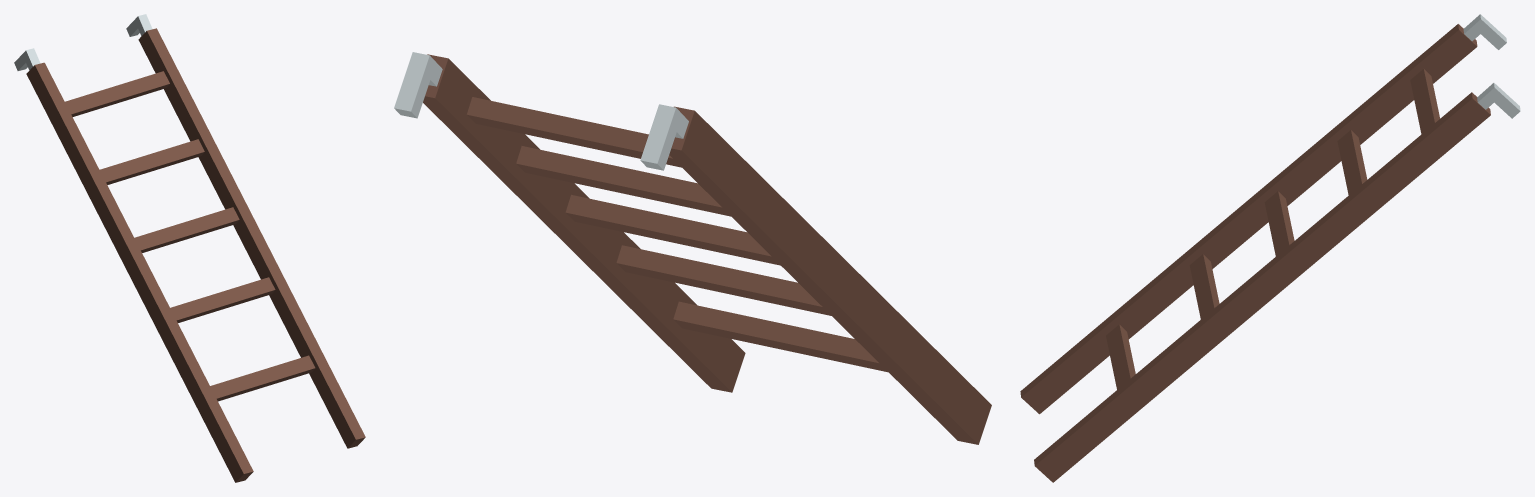
The model's file is Ladder.glb.
3 views of the same model, side by side, from view 1: azimuth 30°, elevation 25°; view 2: azimuth 150°, elevation 25°; view 3: azimuth 270°, elevation 25° (orthographic). The views are drawn at different scales.
Parts seen in each view (by area): view 1: group402200211, group1506858106, group371036787, group1095350313, group956490401, group405798310, group1277764583; view 2: group402200211, group1506858106, group371036787, group1277764583, group1095350313, group405798310, group956490401, group1614764345, group431764845; view 3: group1506858106, group402200211, group956490401, group371036787, group405798310, group1095350313, group1277764583, group431764845, group1614764345.
Boxes of the visible parts, left/top/right/bottom form: group402200211: left=26, top=62, right=253, bottom=482; group1506858106: left=138, top=28, right=365, bottom=448; group371036787: left=210, top=355, right=315, bottom=401; group1095350313: left=134, top=207, right=239, bottom=252; group956490401: left=65, top=71, right=169, bottom=116; group405798310: left=170, top=277, right=275, bottom=322; group1277764583: left=100, top=139, right=204, bottom=184; group402200211: left=669, top=106, right=991, bottom=444; group1506858106: left=423, top=54, right=745, bottom=392; group371036787: left=673, top=301, right=887, bottom=372; group1277764583: left=516, top=146, right=730, bottom=216; group1095350313: left=565, top=194, right=780, bottom=265; group405798310: left=616, top=245, right=831, bottom=315; group956490401: left=467, top=97, right=681, bottom=167; group1614764345: left=640, top=104, right=682, bottom=170; group431764845: left=394, top=52, right=436, bottom=118; group1506858106: left=1034, top=92, right=1490, bottom=482; group402200211: left=1020, top=24, right=1477, bottom=414; group956490401: left=1410, top=69, right=1439, bottom=133; group371036787: left=1106, top=324, right=1135, bottom=389; group405798310: left=1189, top=254, right=1219, bottom=319; group1095350313: left=1264, top=191, right=1294, bottom=256; group1277764583: left=1337, top=130, right=1367, bottom=194; group431764845: left=1485, top=83, right=1520, bottom=118; group1614764345: left=1472, top=14, right=1506, bottom=49.
Bounding box in the file's own units: 1.53 × 2.85 × 3.41.
